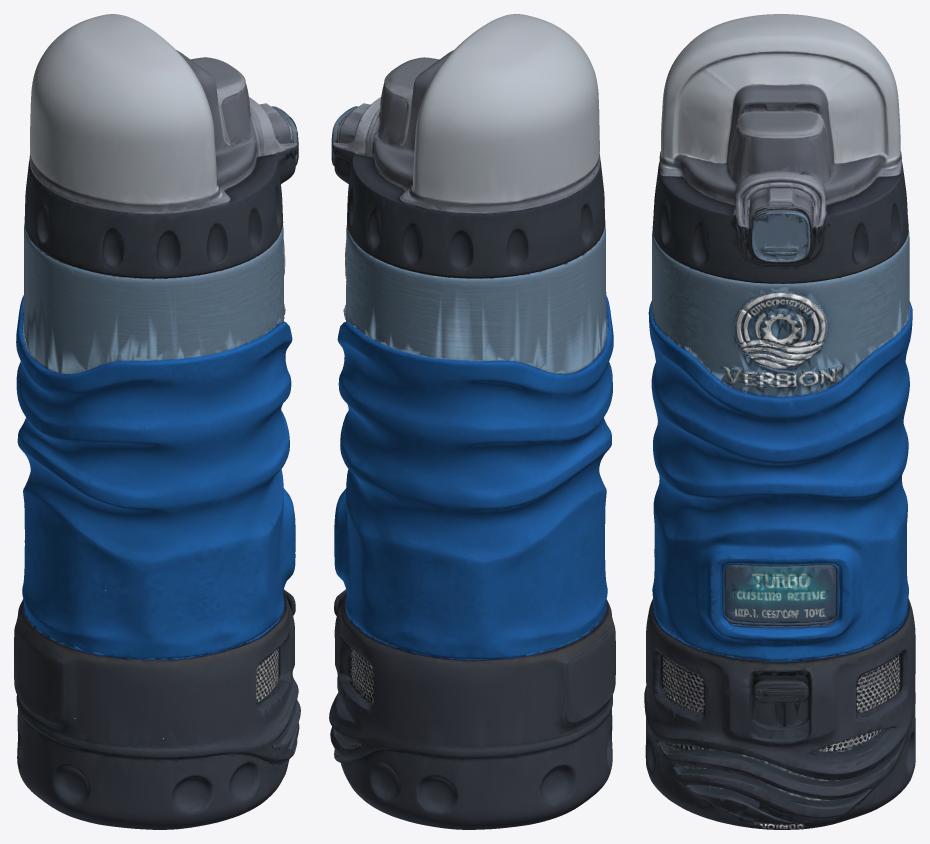
File: verbion-bottle.glb
3 renders of one model, left to right at view 1: azimuth 30°, elevation 25°; view 2: azimuth 150°, elevation 25°; view 3: azimuth 270°, elevation 25°, orthographic.
Parts seen in each view (by area): view 1: tripo_node_0aeb21a6-1a18-4243-a4bc-f4055ab07f80; view 2: tripo_node_0aeb21a6-1a18-4243-a4bc-f4055ab07f80; view 3: tripo_node_0aeb21a6-1a18-4243-a4bc-f4055ab07f80.
Boxes of the visible parts, <box> form: tripo_node_0aeb21a6-1a18-4243-a4bc-f4055ab07f80: <box>14,14,300,829</box>; tripo_node_0aeb21a6-1a18-4243-a4bc-f4055ab07f80: <box>329,14,615,829</box>; tripo_node_0aeb21a6-1a18-4243-a4bc-f4055ab07f80: <box>644,14,915,829</box>.
Bounding box in the file's own units: 0.3411 × 0.9798 × 0.3236.
1 material, 1 textured.
